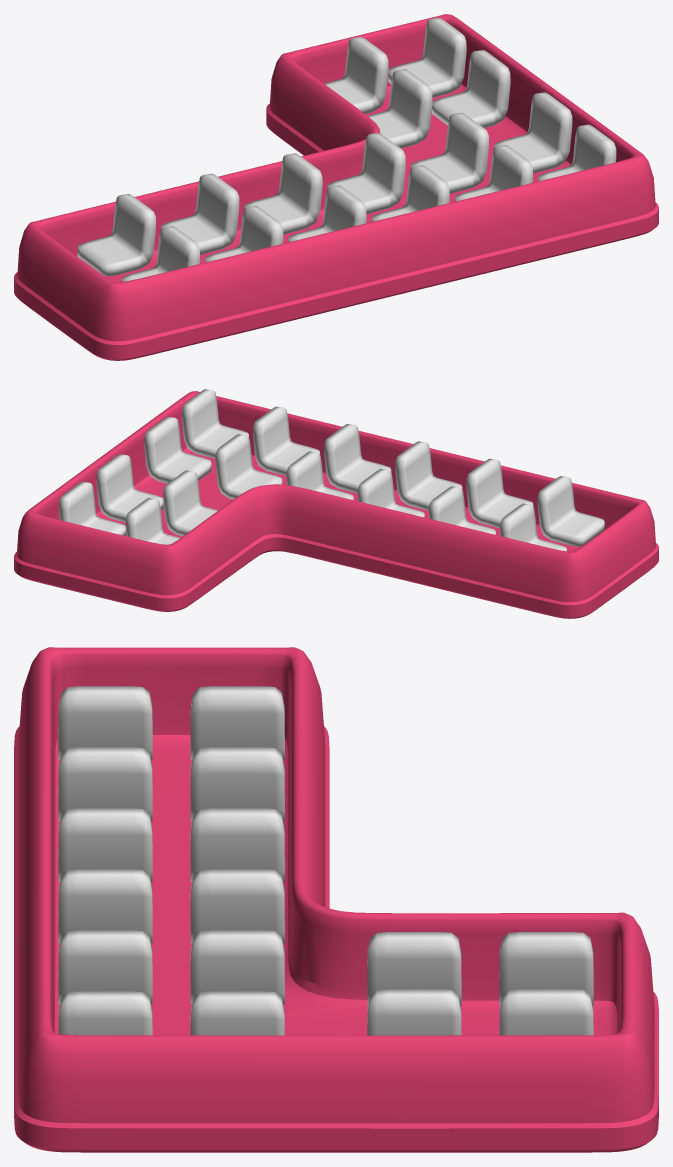
Rendered from car_L_L_2_T2.fbx.
3 views of the same model, one above another, from view 1: azimuth 30°, elevation 25°; view 2: azimuth 150°, elevation 25°; view 3: azimuth 270°, elevation 25° (orthographic). The views are drawn at different scales.
Visible parts, largest first — view 1: Cube.099, Cube.103, Cube.101; view 2: Cube.099, Cube.103, Cube.101; view 3: Cube.099, Cube.103, Cube.101.
Boxes of the visible parts, x1,y1,x2,y2 form: Cube.099: (14,14,658,360); Cube.103: (77,92,616,281); Cube.101: (324,17,510,148); Cube.099: (14,391,658,618); Cube.103: (144,389,604,551); Cube.101: (59,454,217,544); Cube.099: (14,647,658,1152); Cube.103: (58,686,284,1035); Cube.101: (367,932,593,1035).
Bounding box in the file's own units: 570 × 83.38 × 376.
